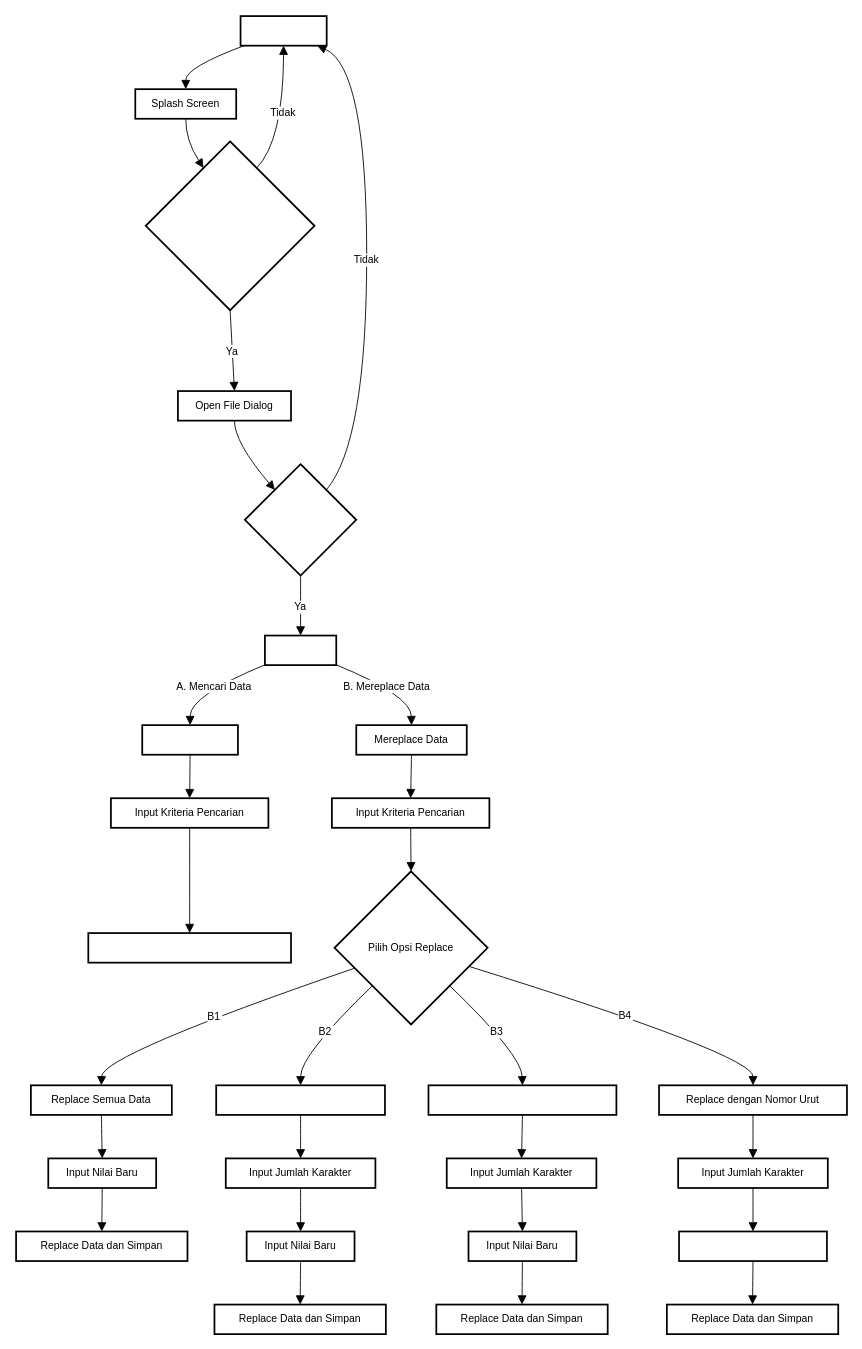
The diagram is 862 pixels wide and 1349 high, and some of its shapes have lost their labels. Here are the shapes that lost their labels. From the top down, the centre of each, then its label:
At (283,30): "Mulai Ulang".
At (229,225): "Buka file KML/KMZ?".
At (300,519): "File dipilih?".
At (300,650): "Pilih Opsi".
At (189,739): "Mencari Data".
At (189,947): "Tampilkan Data Sesuai Kriteria".
At (300,1099): "Replace Karakter dari Kiri".
At (522,1099): "Replace Karakter dari Kanan".
At (752,1246): "Pilih Prefix atau Suffix".
